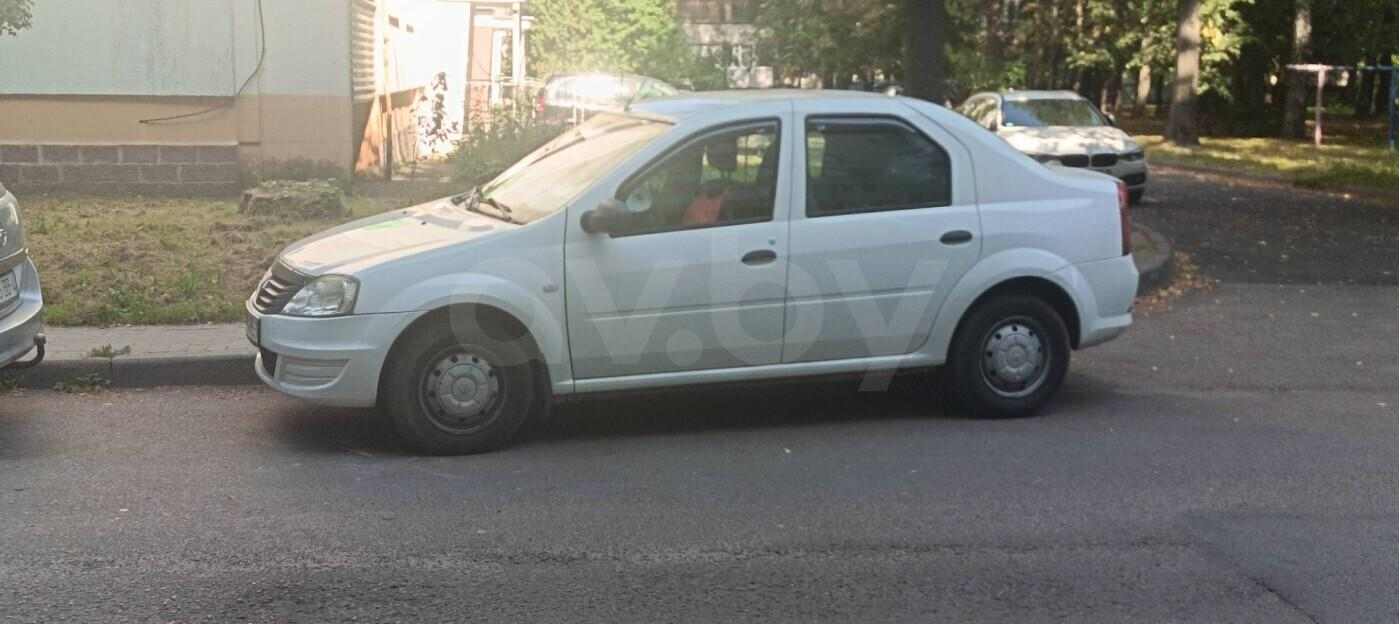Logan_2008-2015: (241, 82, 1137, 433)
